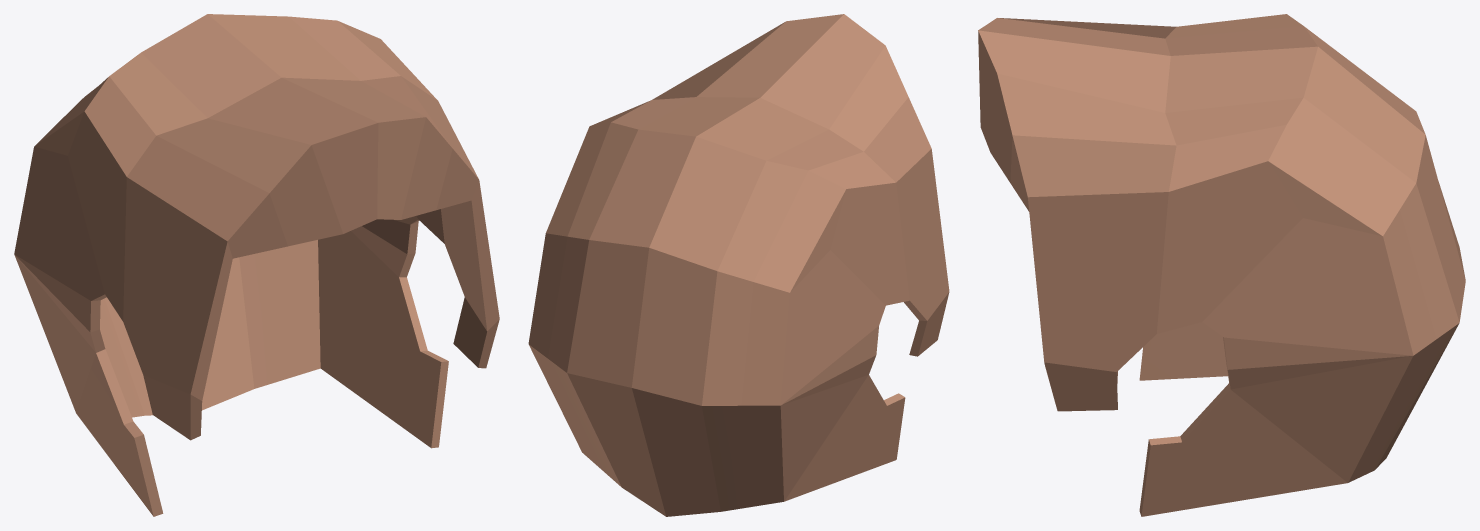
Rendered from Beachgoer_M_Hair_B.fbx.
The picture shows the model from 3 angles, left to right: view 1: azimuth 30°, elevation 25°; view 2: azimuth 150°, elevation 25°; view 3: azimuth 270°, elevation 25°; orthographic projection. The views are drawn at different scales.
Visible parts, largest first — view 1: Beachgoer_M_Hair_B; view 2: Beachgoer_M_Hair_B; view 3: Beachgoer_M_Hair_B.
Part boxes in pixels (box(x1,y1,x2,y2)): Beachgoer_M_Hair_B: box(14, 14, 499, 516); Beachgoer_M_Hair_B: box(528, 14, 949, 516); Beachgoer_M_Hair_B: box(978, 14, 1465, 516).
Bounding box in the file's own units: 17.86 × 22.17 × 22.9.
